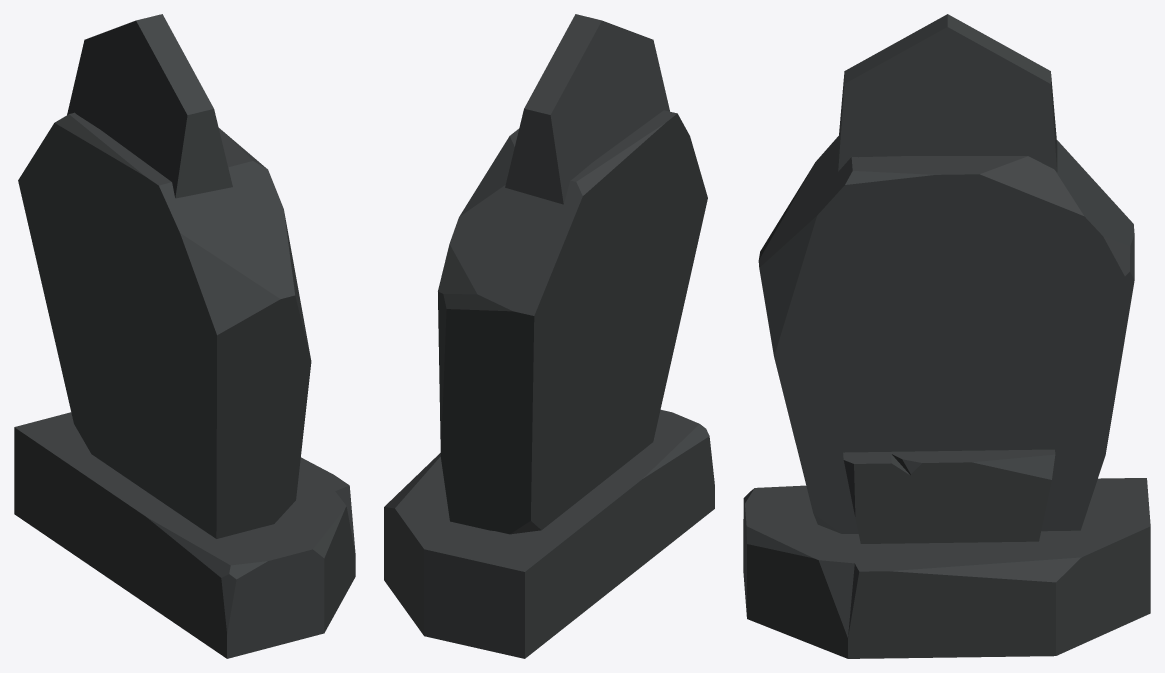
Rendered from gravestone2.fbx.
The picture shows the model from 3 angles, left to right: view 1: azimuth 30°, elevation 25°; view 2: azimuth 150°, elevation 25°; view 3: azimuth 270°, elevation 25°; orthographic projection.
Visible parts, largest first — view 1: gravestone2; view 2: gravestone2; view 3: gravestone2.
Boxes of the visible parts, x1=… form: gravestone2: x1=14, y1=14, x2=355, y2=658; gravestone2: x1=384, y1=14, x2=714, y2=658; gravestone2: x1=743, y1=14, x2=1150, y2=658.
Size of the model in its own units: 0.7223 by 1.93 by 1.27.
